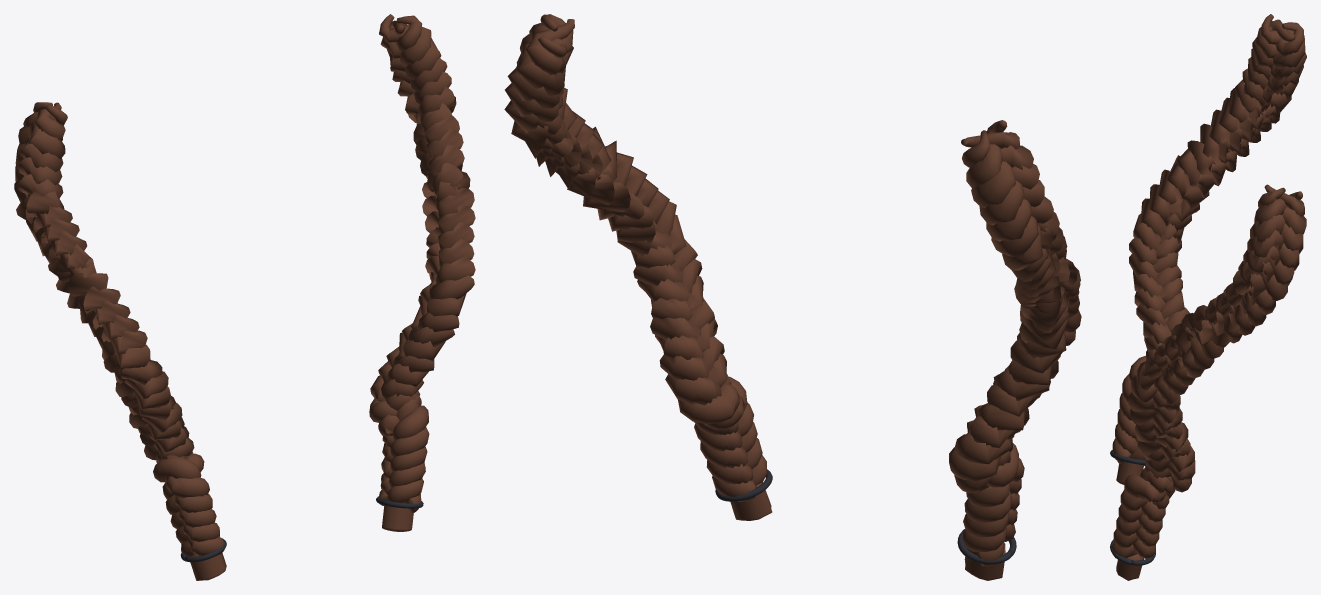
File: Feminine-twin-braids-bandeau-lengths251.glb
3 views of the same model, side by side, from view 1: azimuth 30°, elevation 25°; view 2: azimuth 150°, elevation 25°; view 3: azimuth 270°, elevation 25° (orthographic). The views are drawn at different scales.
Parts seen in each view (by area): view 1: 226 hairLengths / Hair / chestnut226, 226 hairLengths / Hair / ties226; view 2: 226 hairLengths / Hair / chestnut226, 226 hairLengths / Hair / ties226; view 3: 226 hairLengths / Hair / chestnut226, 226 hairLengths / Hair / ties226.
Boxes of the visible parts, <box> form: 226 hairLengths / Hair / chestnut226: <box>14,14,475,580</box>; 226 hairLengths / Hair / ties226: <box>180,496,423,562</box>; 226 hairLengths / Hair / chestnut226: <box>504,14,1081,580</box>; 226 hairLengths / Hair / ties226: <box>715,469,1016,564</box>; 226 hairLengths / Hair / chestnut226: <box>1111,14,1306,580</box>; 226 hairLengths / Hair / ties226: <box>1110,450,1155,565</box>.
Size of the model in its own units: 1.09 by 1.05 by 0.4378.
